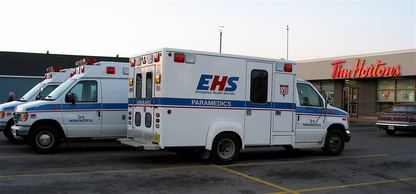ambulance: (115, 25, 351, 165), (12, 59, 129, 153)
truck: (375, 101, 415, 137)
